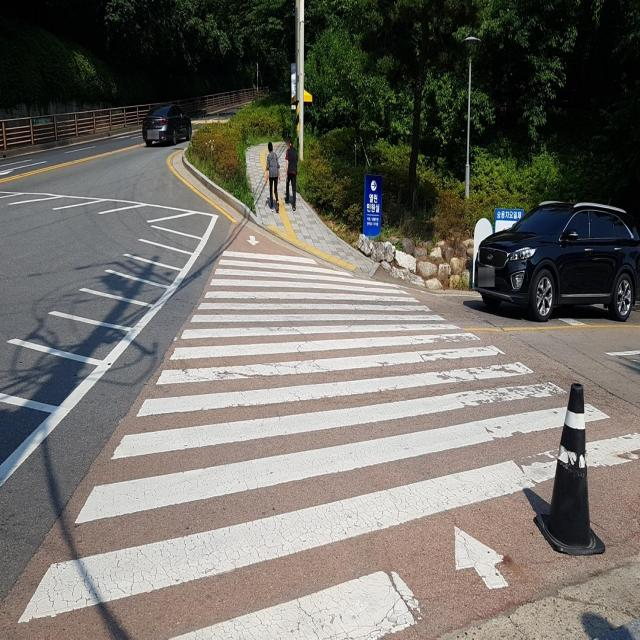횡단보도: (17, 234, 640, 640)
